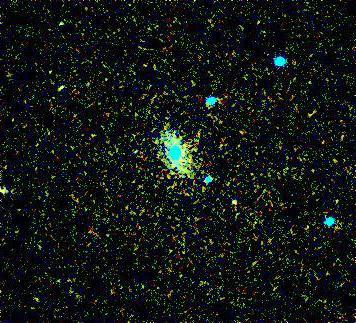star: (223, 185, 253, 215)
